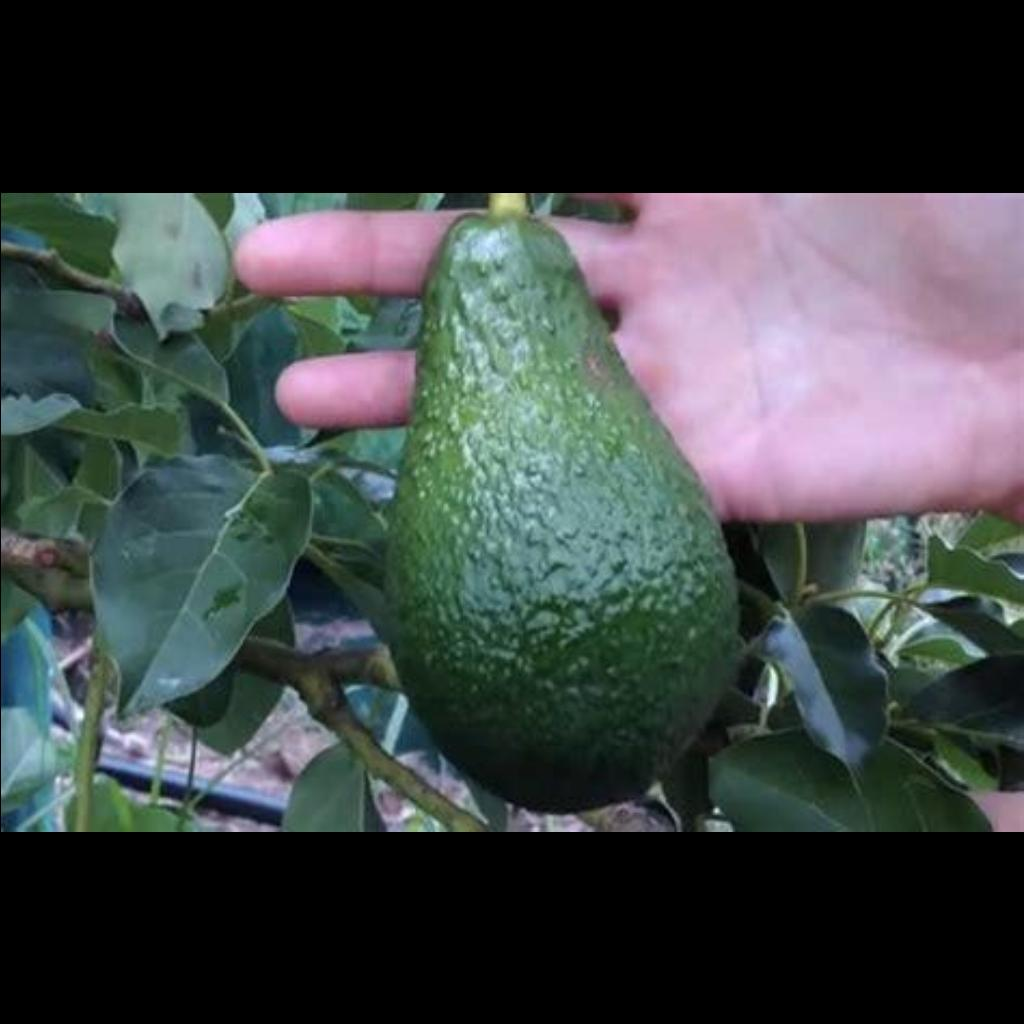fruto_sano: (385, 218, 746, 812)
